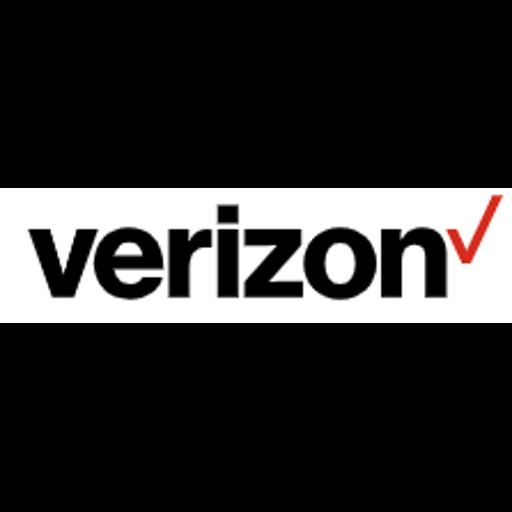Verizon Wireless: (0, 188, 512, 323)
